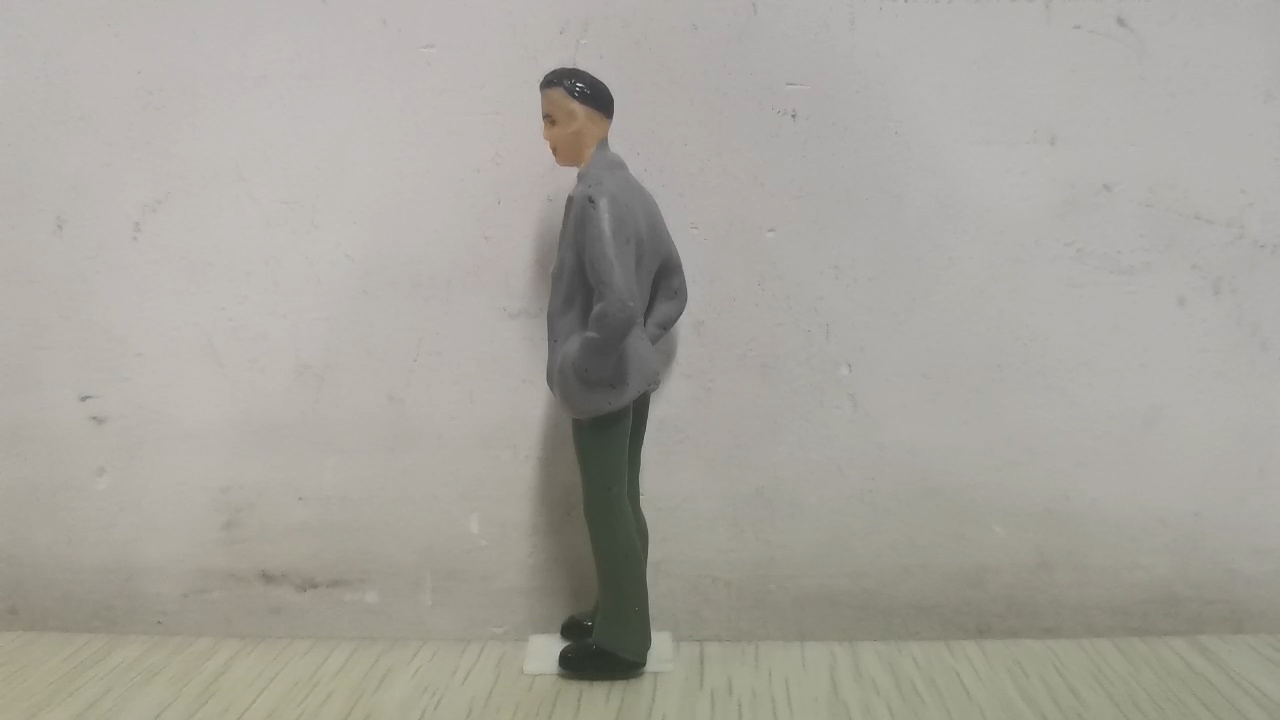person: (535, 66, 690, 672)
